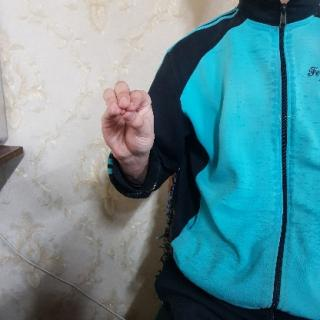HA: (100, 76, 160, 170)
